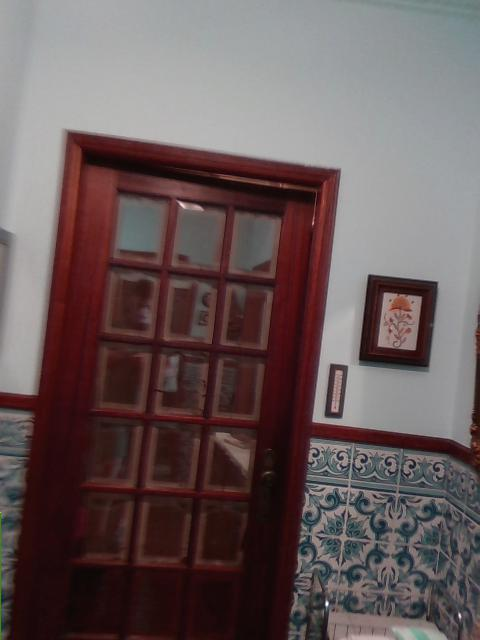closed_door: (10, 129, 341, 639)
